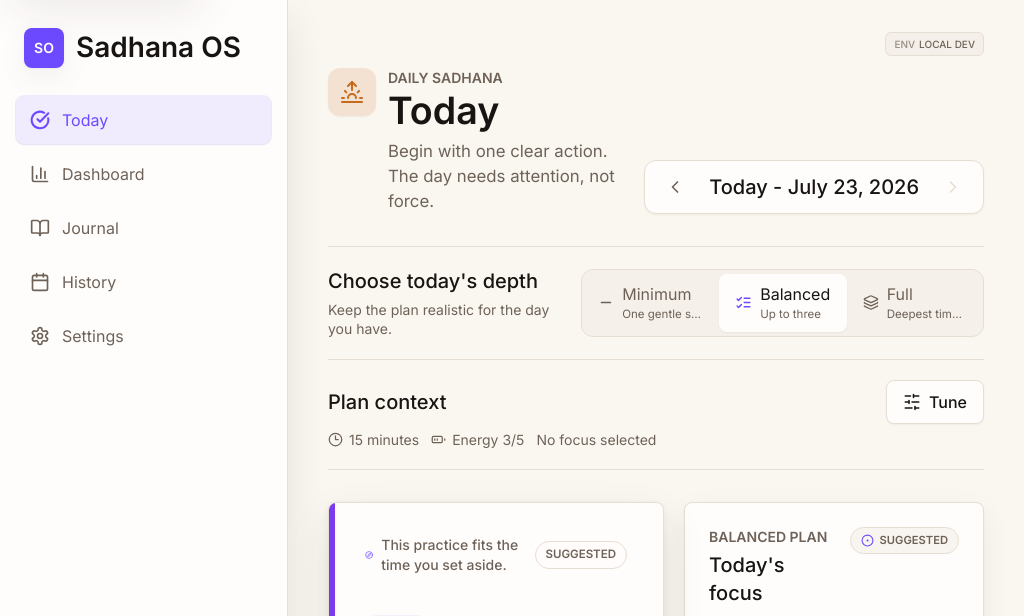
Test: App › shows category management on the Settings tab
Click the button "Settings" at coordinates (144, 336), box [16,312,271,360]
(page scrolled)
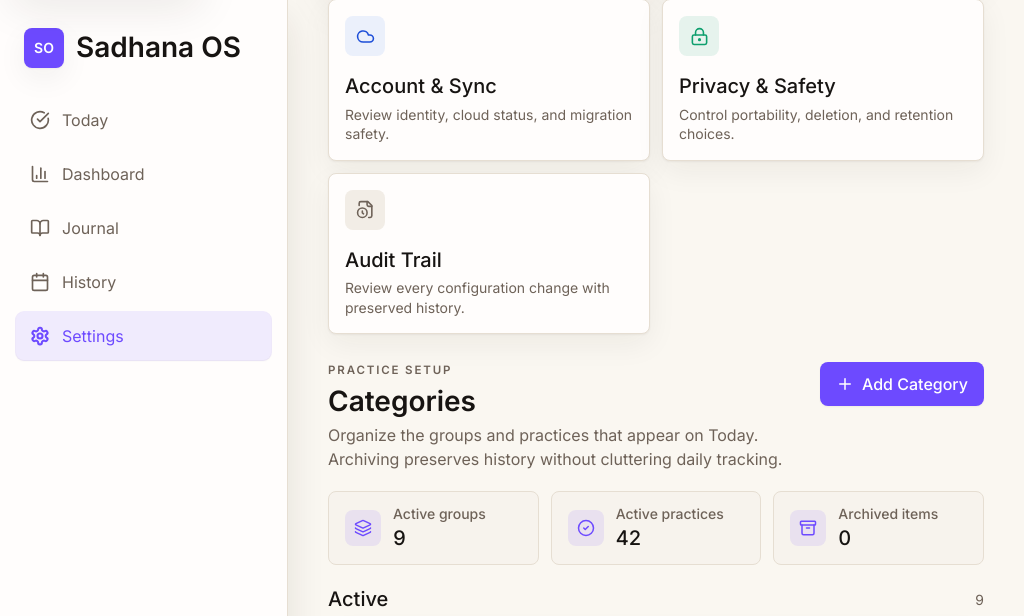
Now the button "Add Category" is shown, box [820,362,984,406]
